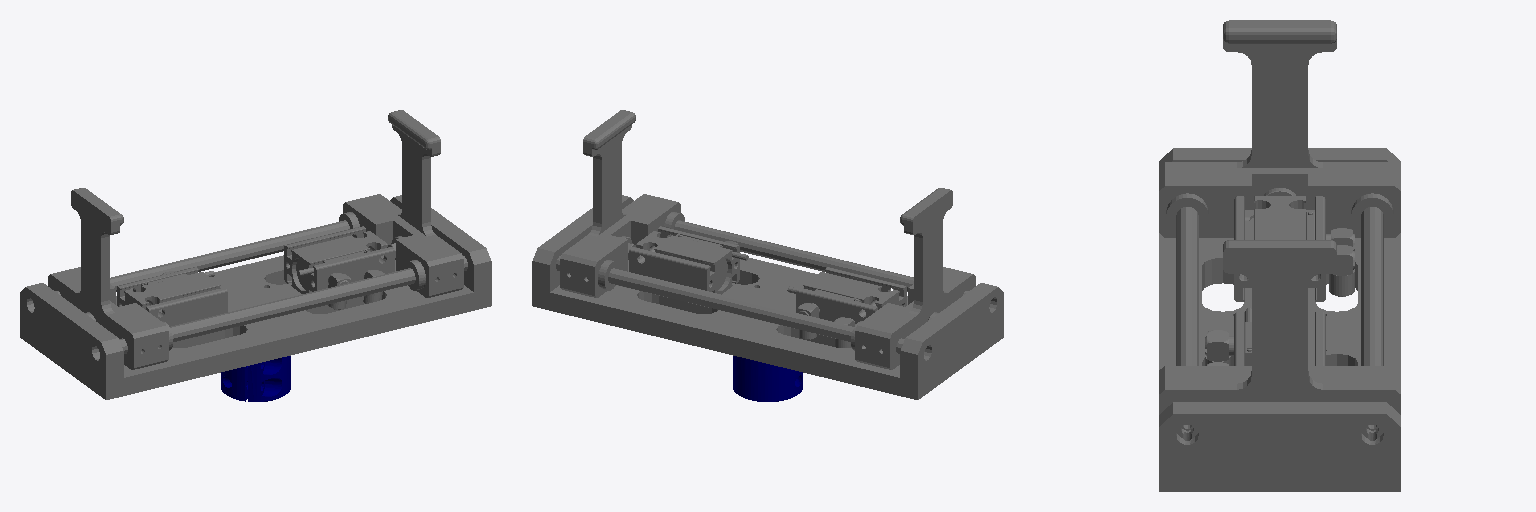
URDF robot description (end_effector_m.SLDASM):
<?xml version="1.0" encoding="utf-8"?>
<!-- This URDF was automatically created by SolidWorks to URDF Exporter! Originally created by [author] ([email redacted]) 
     Commit Version: 1.6.0-4-g7f85cfe  Build Version: 1.6.7995.38578
     For more information, please see http://wiki.ros.org/sw_urdf_exporter -->
<robot
  name="end_effector_m.SLDASM">
  <link
    name="e_in">
    <inertial>
      <origin
        xyz="0.00035605 0.00059423 0.02085"
        rpy="0 0 0" />
      <mass
        value="0.030243" />
      <inertia
        ixx="7.2547E-06"
        ixy="9.1065E-08"
        ixz="8.1792E-08"
        iyy="7.4099E-06"
        iyz="1.3474E-07"
        izz="7.0786E-06" />
    </inertial>
    <visual>
      <origin
        xyz="0 0 0"
        rpy="0 0 0" />
      <geometry>
        <mesh
          filename="package://end_effector_m.SLDASM/meshes/e_in.STL" />
      </geometry>
      <material
        name="blue">
        <color
          rgba="0 0 0.5 1" />
      </material>
    </visual>
    <collision>
      <origin
        xyz="0 0 0"
        rpy="0 0 0" />
      <geometry>
        <mesh
          filename="package://end_effector_m.SLDASM/meshes/e_in.STL" />
      </geometry>
    </collision>
  </link>
  <link
    name="e_body">
    <inertial>
      <origin
        xyz="-0.00013632 -0.00018091 0.054387"
        rpy="0 0 0" />
      <mass
        value="1.1173" />
      <inertia
        ixx="0.00074573"
        ixy="9.4322E-08"
        ixz="4.1405E-08"
        iyy="0.0021948"
        iyz="1.351E-07"
        izz="0.0025137" />
    </inertial>
    <visual>
      <origin
        xyz="0 0 0"
        rpy="0 0 0" />
      <geometry>
        <mesh
          filename="package://end_effector_m.SLDASM/meshes/e_body.STL" />
      </geometry>
      <material
        name="body">
        <color
          rgba="0.5 0.5 0.5 1" />
      </material>
    </visual>
    <collision>
      <origin
        xyz="0 0 0"
        rpy="0 0 0" />
      <geometry>
        <mesh
          filename="package://end_effector_m.SLDASM/meshes/e_body.STL" />
      </geometry>
    </collision>
  </link>
  <joint
    name="e_medium"
    type="fixed">
    <origin
      xyz="0 0 0"
      rpy="0 0 0" />
    <parent
      link="e_in" />
    <child
      link="e_body" />
    <axis
      xyz="0 0 0" />
  </joint>
</robot>

--- Facts derived from the render (not from the file) ---
3 views of the same robot in one strip: view 1: azimuth 30°, elevation 25°; view 2: azimuth 150°, elevation 25°; view 3: azimuth 270°, elevation 25° (orthographic).
Robot: end_effector_m.SLDASM — 2 links, 1 joints (1 fixed); root link e_in; default pose: every joint at zero.
Links seen in each view (by area): view 1: e_body, e_in; view 2: e_body, e_in; view 3: e_body.
Link boxes in pixels (left/top/right/bottom): e_body: left=20, top=110, right=491, bottom=399; e_in: left=221, top=356, right=290, bottom=401; e_body: left=532, top=110, right=1003, bottom=399; e_in: left=733, top=356, right=802, bottom=401; e_body: left=1159, top=20, right=1400, bottom=491.
Bounding box of the posed robot: 0.221 × 0.085 × 0.123 m (x, y, z).
2 mesh visuals loaded from 2 distinct referenced files (2 binary STL).